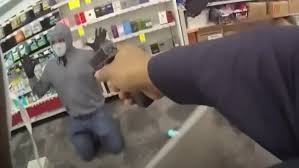gun: (84, 39, 158, 110)
